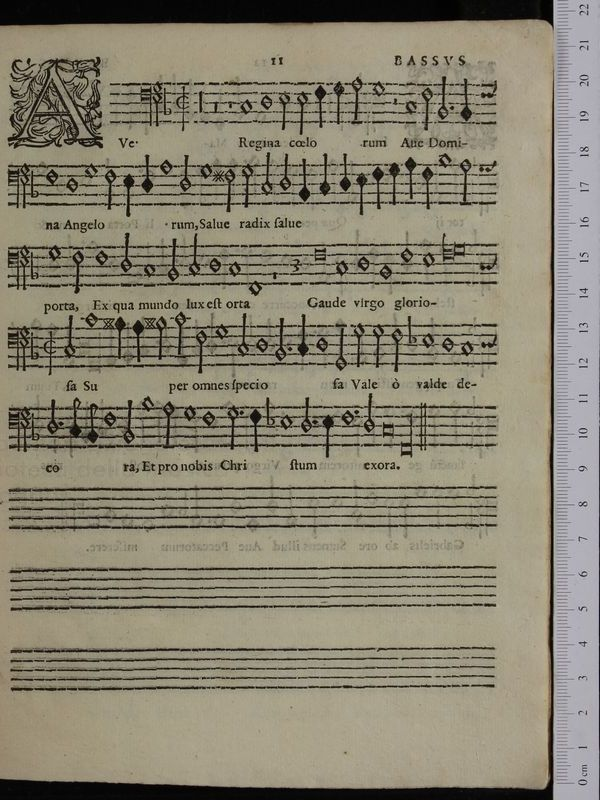3: (283, 247, 303, 283)
breve_5: (308, 241, 332, 267)
custos_8: (478, 246, 503, 276)
f clef_5: (1, 233, 29, 292)
flat_9: (26, 250, 40, 286)
l1semibreve_5: (440, 229, 454, 263)
l2semibreve_4: (451, 237, 468, 259)
minim_5: (69, 242, 84, 297)
minim_7: (117, 227, 134, 279)
minim_8: (186, 228, 203, 281)
minim_9: (165, 232, 182, 287)
semibreve rest: (270, 239, 280, 288)
semibreve_12: (245, 270, 266, 299)
semibreve_4: (48, 237, 64, 266)
semibreve_5: (91, 241, 111, 272), (396, 240, 417, 269)
semibreve_6: (418, 244, 438, 273)
semibreve_7: (352, 247, 373, 277), (205, 249, 223, 278)
semibreve_8: (138, 255, 159, 284), (335, 253, 352, 283), (224, 256, 244, 281)
semibreve_9: (375, 256, 396, 285)
